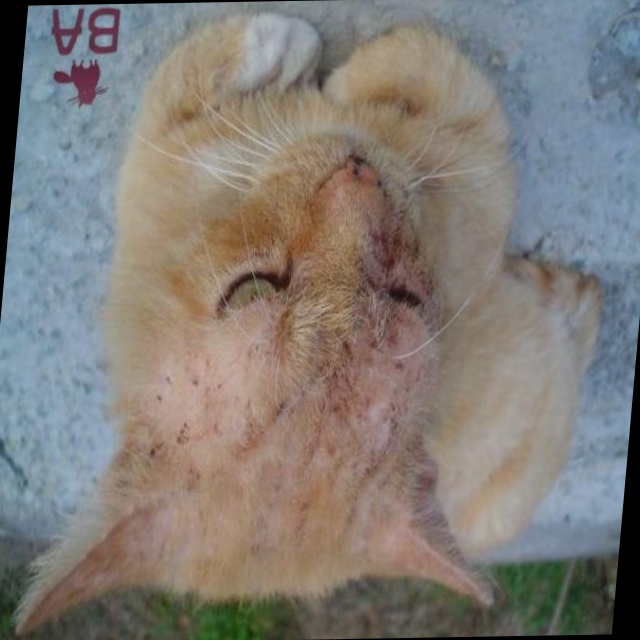ringworm: (328, 320, 414, 400), (362, 220, 408, 269)
